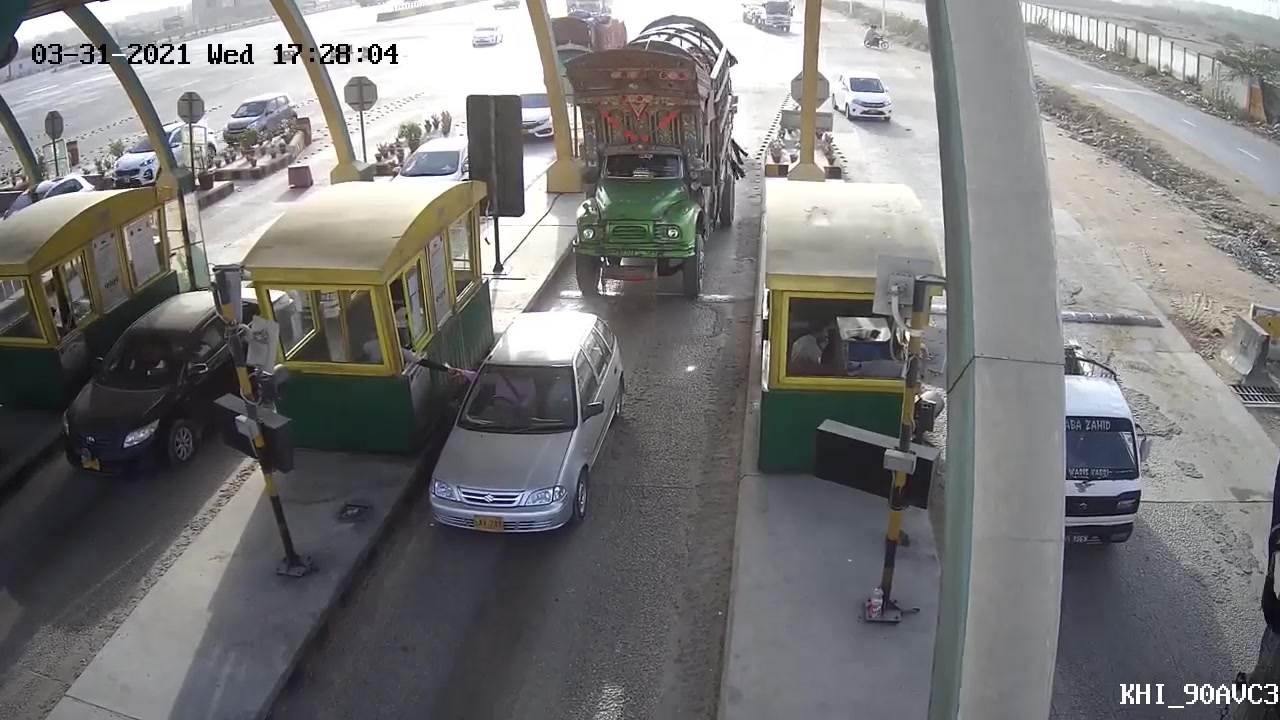F1: (401, 301, 633, 556)
F5: (560, 6, 751, 301)
